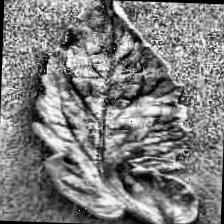leaf mold: (34, 0, 205, 224)
